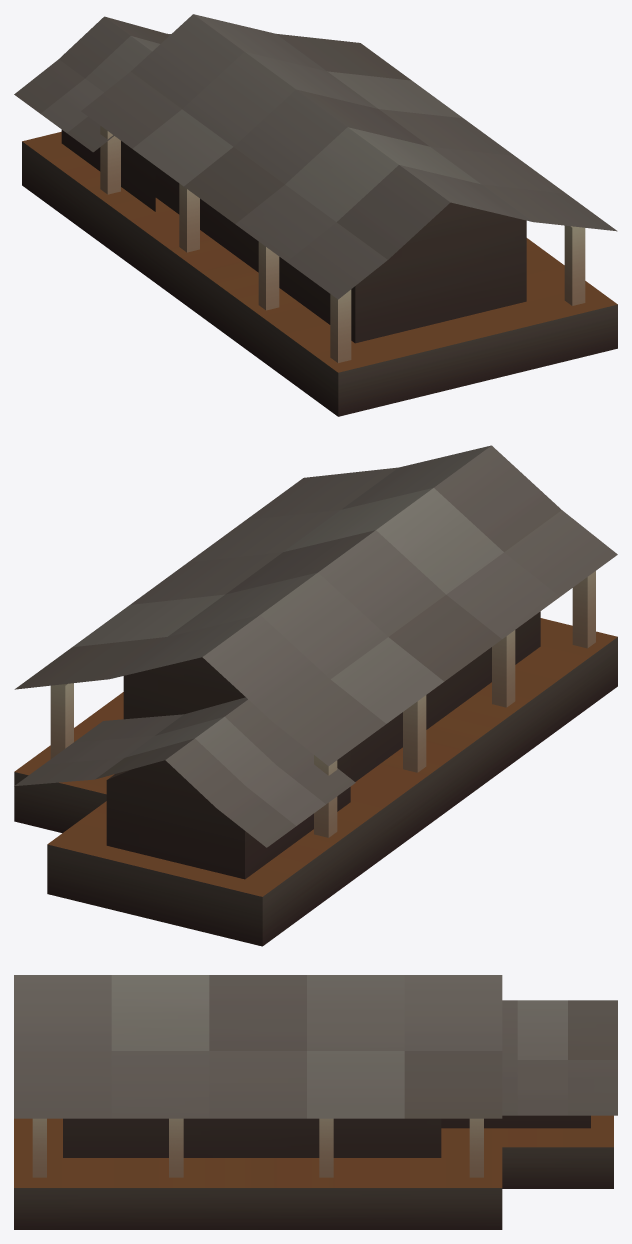
The model's file is SM_TraditionnalHouse_01.fbx.
The picture shows the model from 3 angles, top to bottom: view 1: azimuth 30°, elevation 25°; view 2: azimuth 150°, elevation 25°; view 3: azimuth 270°, elevation 25°; orthographic projection. The views are drawn at different scales.
Visible parts, largest first — view 1: SM_TraditionnalHouse_01; view 2: SM_TraditionnalHouse_01; view 3: SM_TraditionnalHouse_01.
Boxes of the visible parts, <box> form: SM_TraditionnalHouse_01: <box>14,14,617,416</box>; SM_TraditionnalHouse_01: <box>14,445,617,946</box>; SM_TraditionnalHouse_01: <box>14,975,617,1229</box>.
Size of the model in its own units: 0.5718 by 0.3576 by 1.1.
